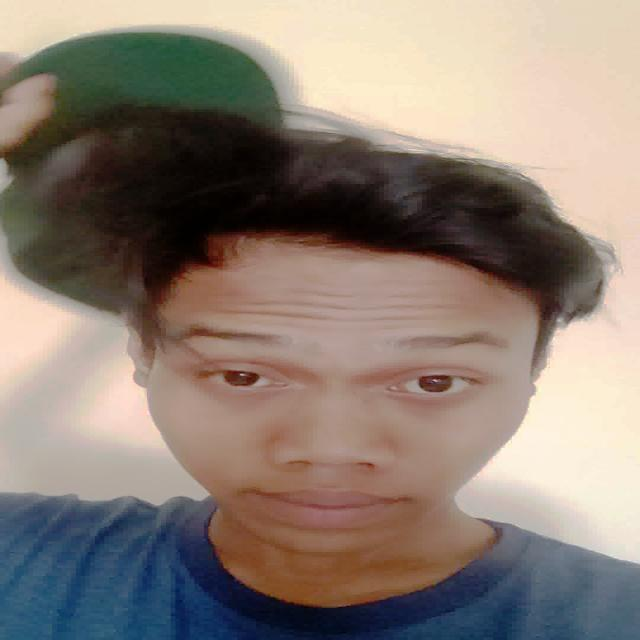TOPI: (2, 26, 289, 186)
